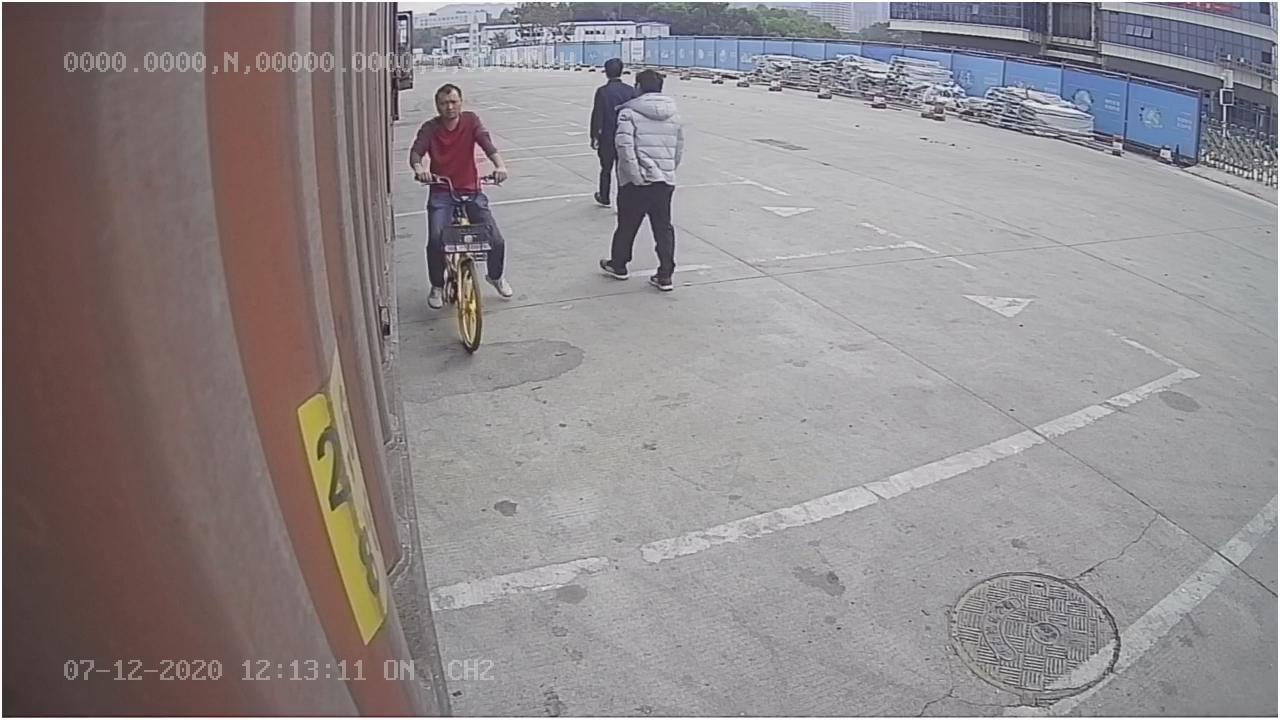person: (598, 60, 686, 290)
